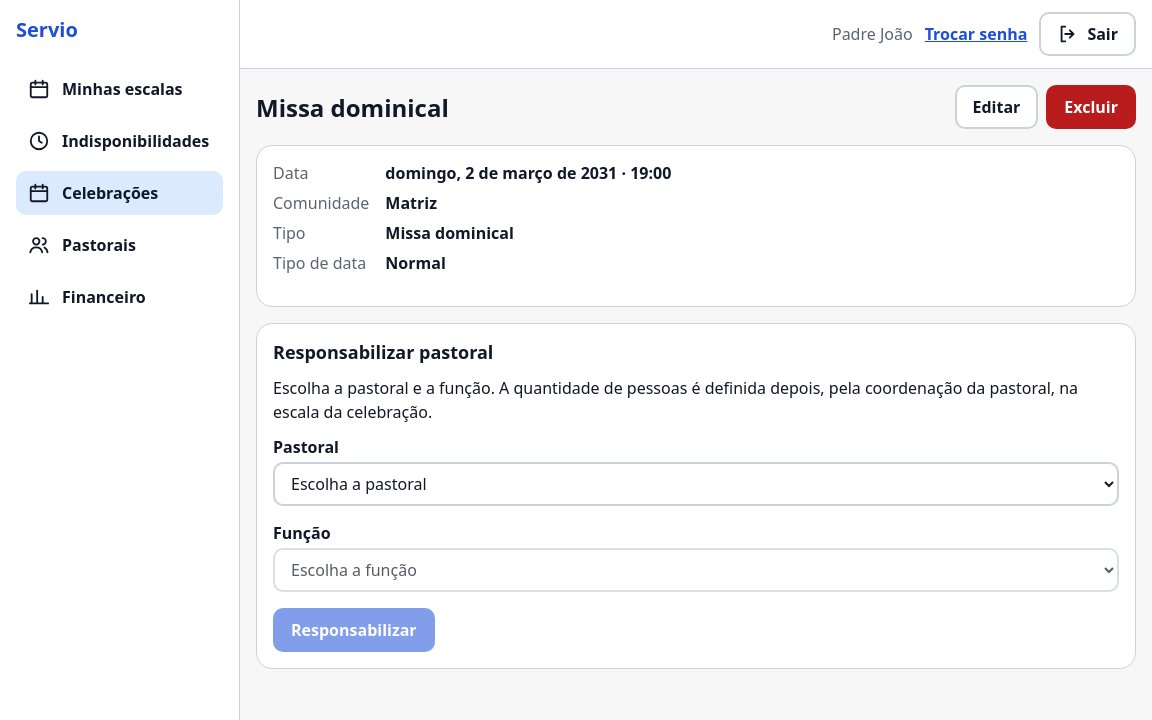
Test: Detalhe da celebração (área do padre) › responsabilizar pastoral escolhe a pastoral e a função e cria a vaga sem quantidade
Select "Pascom" in the dropdown labelled "Pastoral": (696, 484) x1=273 y1=462 x2=1119 y2=506
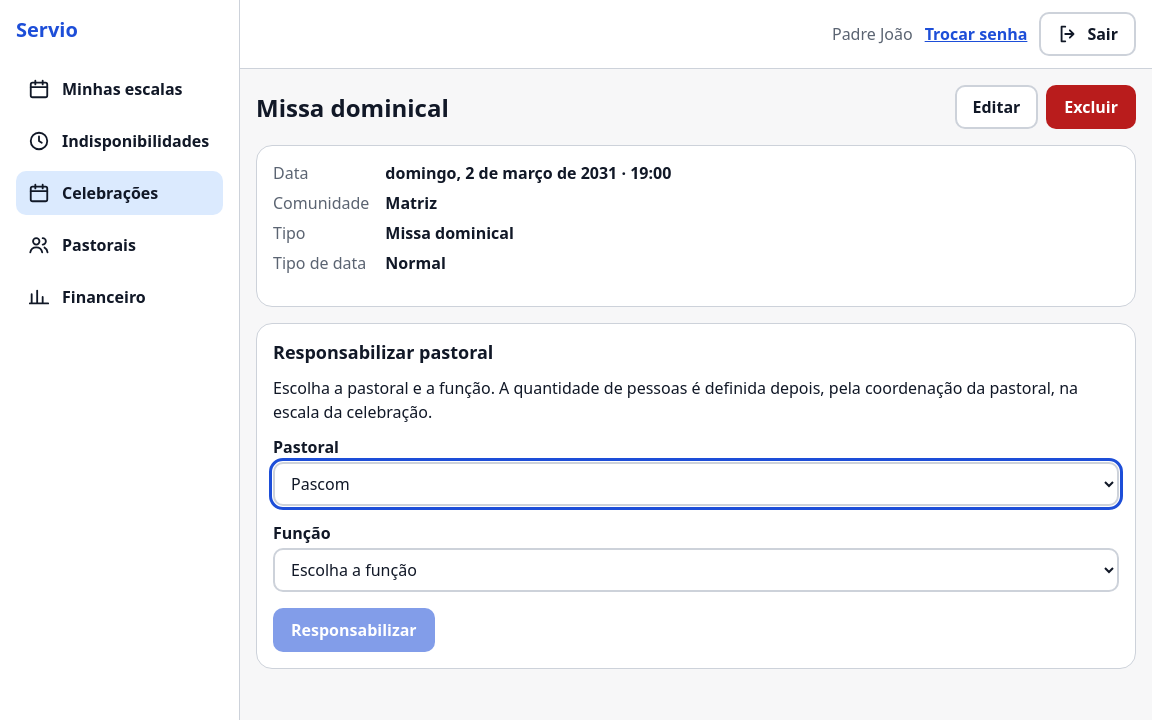
Select "Comunicação" in the dropdown labelled "Função": (696, 570) x1=273 y1=548 x2=1119 y2=592
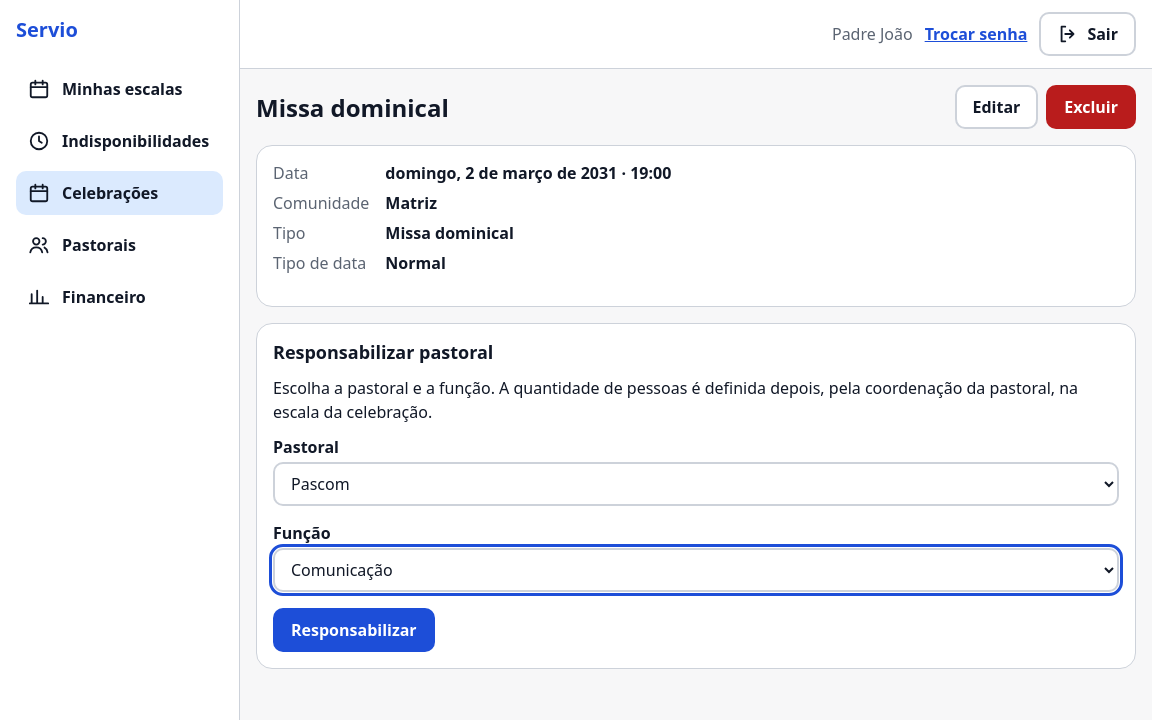
Click the button "Responsabilizar": click(354, 630) x1=273 y1=608 x2=435 y2=652
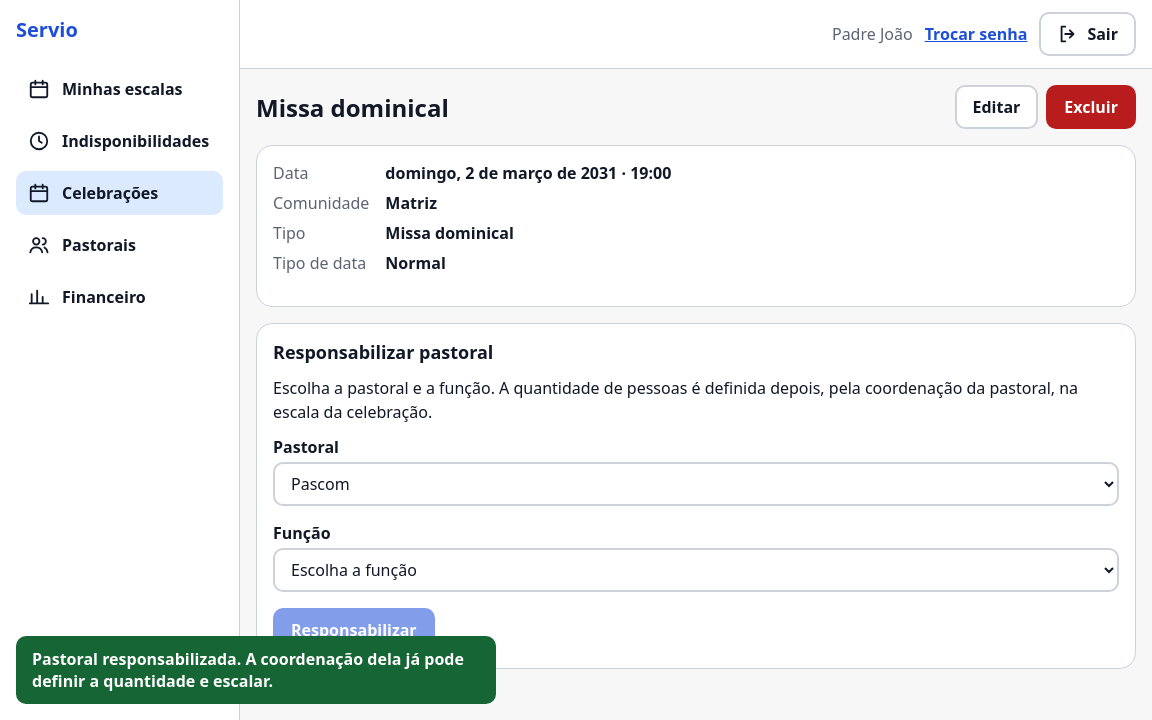
Now the text "Pastoral responsabilizada. A coordenação dela já pode definir a quantidade e escalar." is shown, box x1=32 y1=648 x2=464 y2=692
